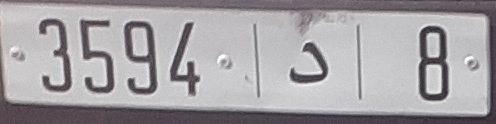3: (37, 16, 73, 94)
4: (166, 21, 204, 97)
5: (78, 17, 117, 97)
8: (416, 24, 451, 103)
9: (122, 20, 160, 96)
d: (287, 41, 331, 87)
